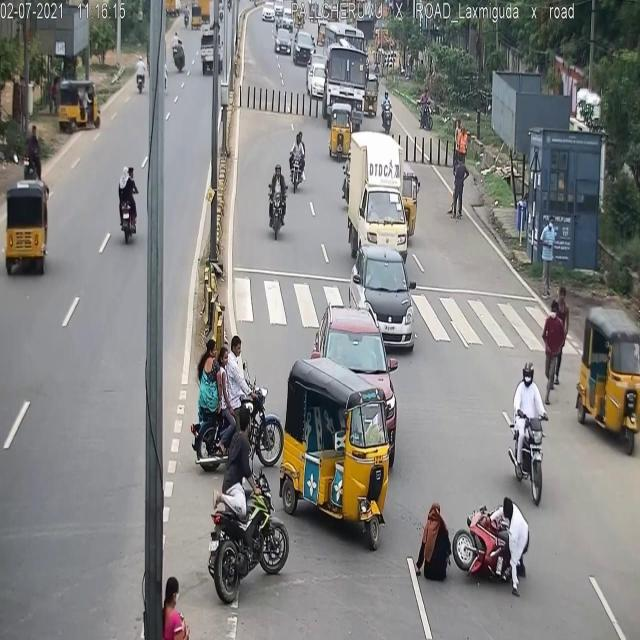accident: (410, 479, 534, 600)
non_accident: (337, 123, 421, 361), (301, 44, 414, 166), (268, 23, 316, 68), (186, 0, 214, 35)
